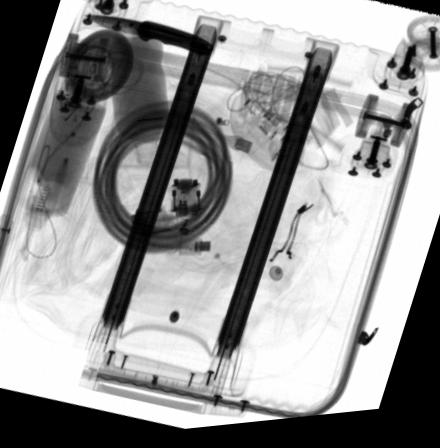Knife: (85, 15, 212, 59)
